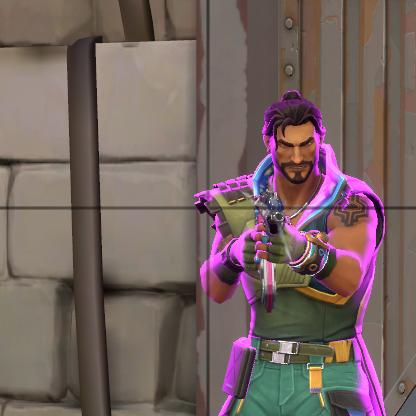enemyBody: (228, 202, 381, 351)
enemyHead: (265, 121, 334, 192)
